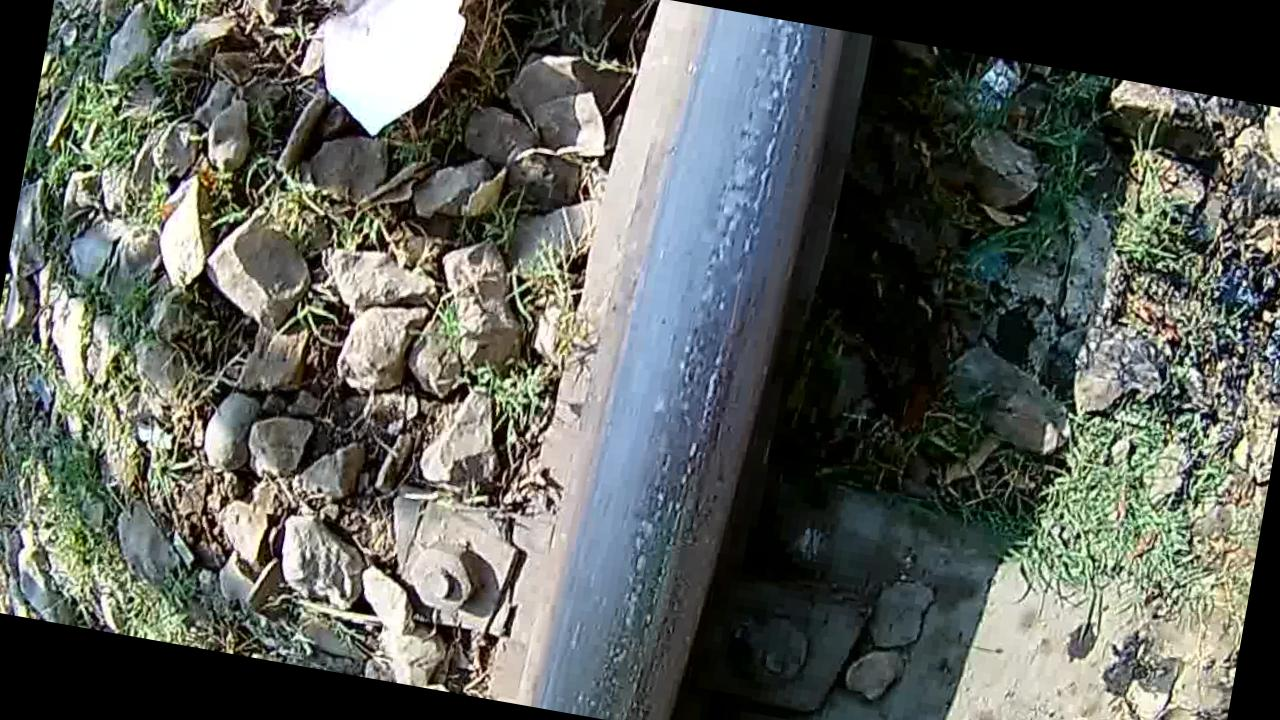clip_missing: (554, 3, 818, 720)
